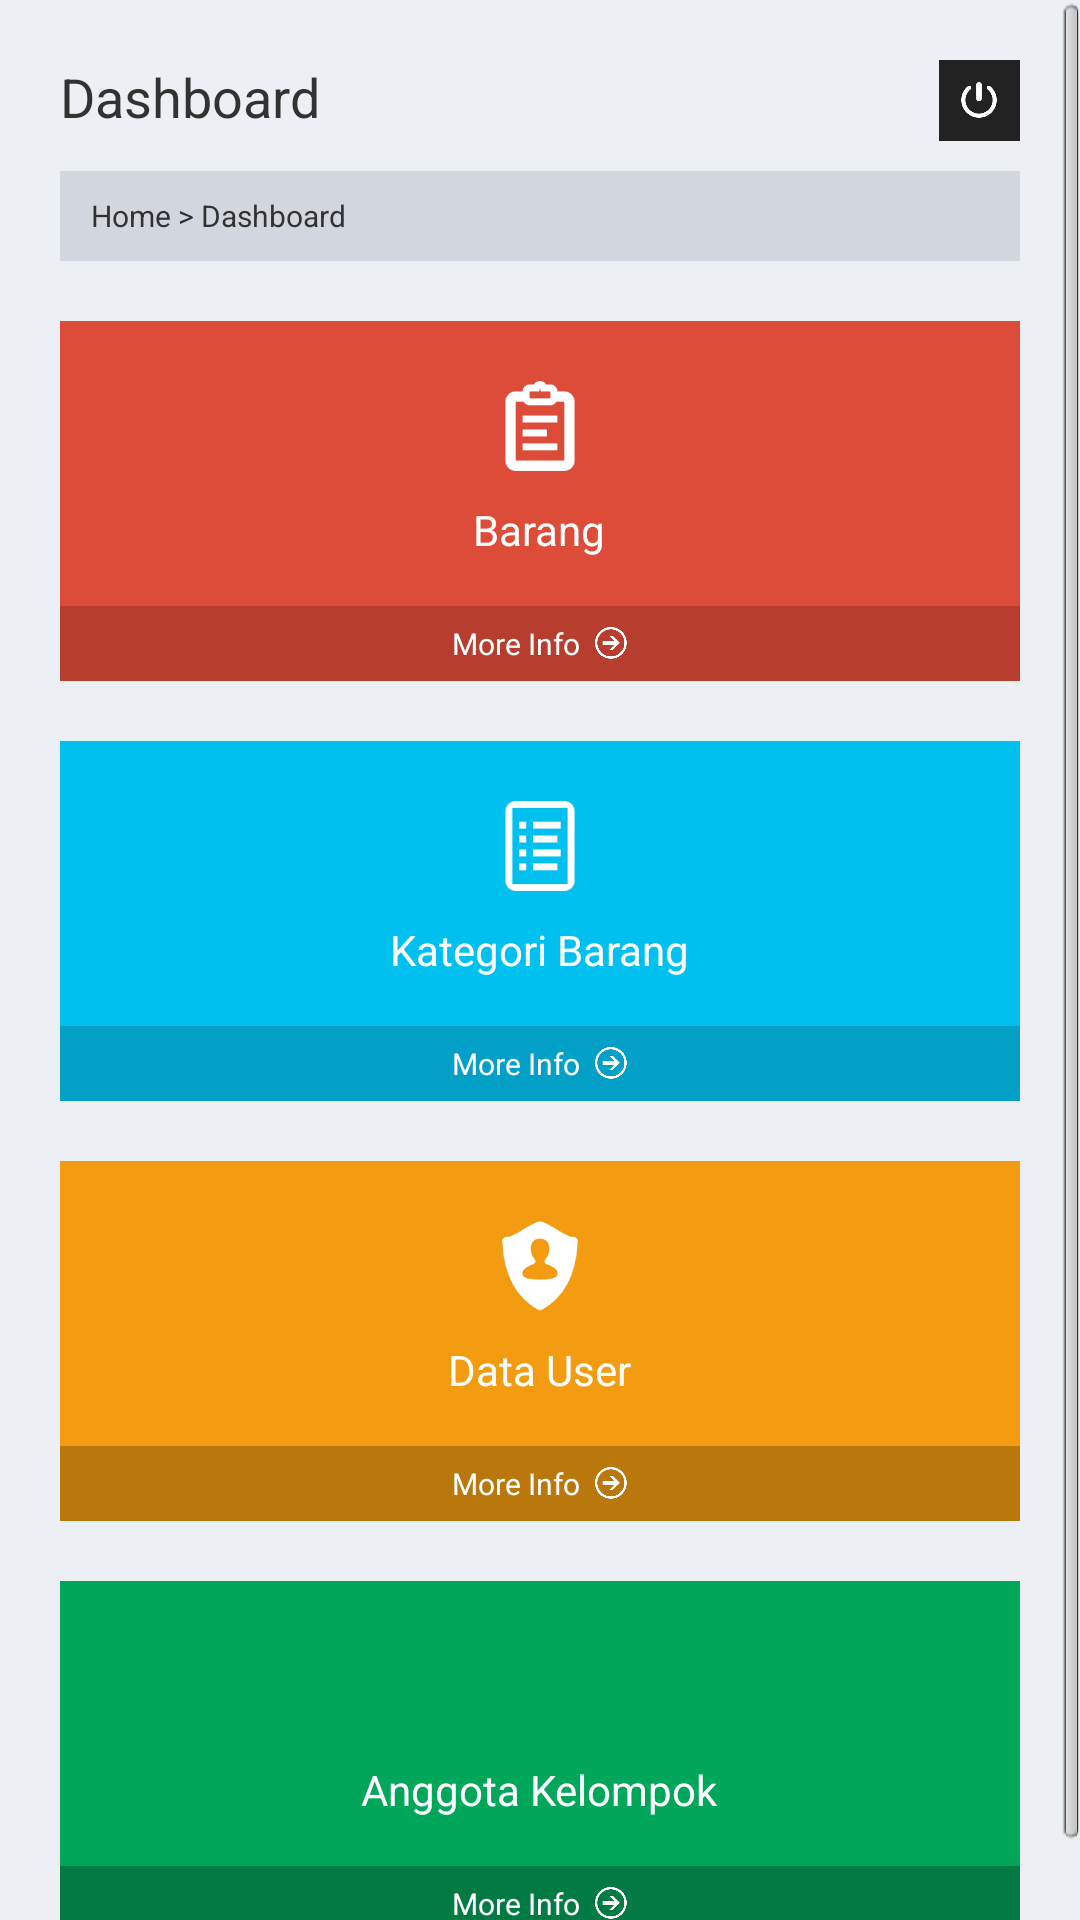

Where to tap for icons on this 1080px×1920px app screen, as [x,y]:
cllipboard: [540,426]
list: [540,846]
right: [611,643], [611,1063], [611,1483], [611,1903]
shutdown: [979,100]
user shield: [540,1266]
